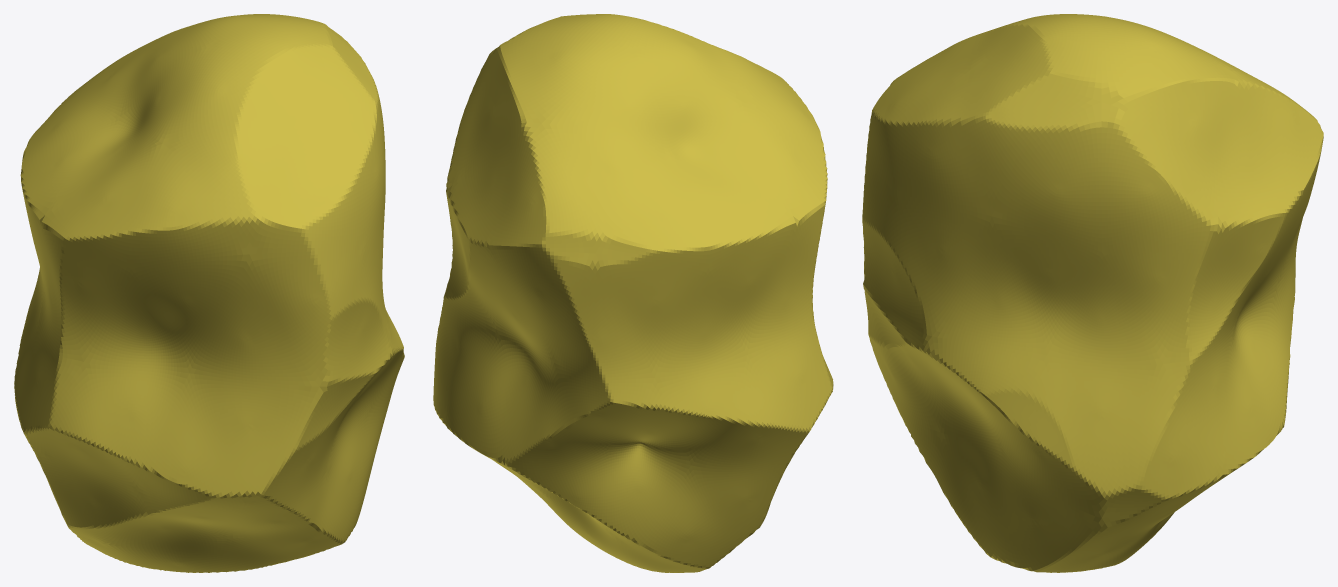
File: SandBlock3.fbx
3 views of the same model, side by side, from view 1: azimuth 30°, elevation 25°; view 2: azimuth 150°, elevation 25°; view 3: azimuth 270°, elevation 25° (orthographic). The views are drawn at different scales.
Parts seen in each view (by area): view 1: Icosphere; view 2: Icosphere; view 3: Icosphere.
Boxes of the visible parts, box(x1,y1,x2,y2) form: Icosphere: box(14, 14, 404, 572); Icosphere: box(433, 14, 833, 572); Icosphere: box(862, 14, 1323, 572).
Bounding box in the file's own units: 314 × 324 × 419.
